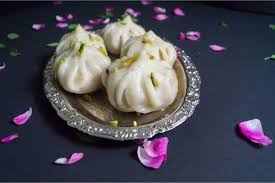modak: (108, 52, 185, 117), (51, 38, 114, 92)
